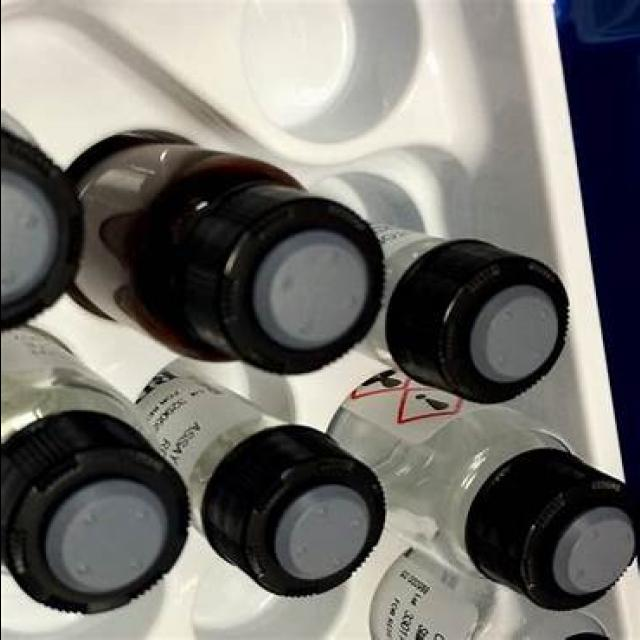vial: (243, 195, 389, 382), (35, 458, 173, 606), (0, 148, 88, 340), (260, 468, 380, 590), (471, 268, 548, 394), (542, 496, 640, 594), (567, 632, 609, 640)
